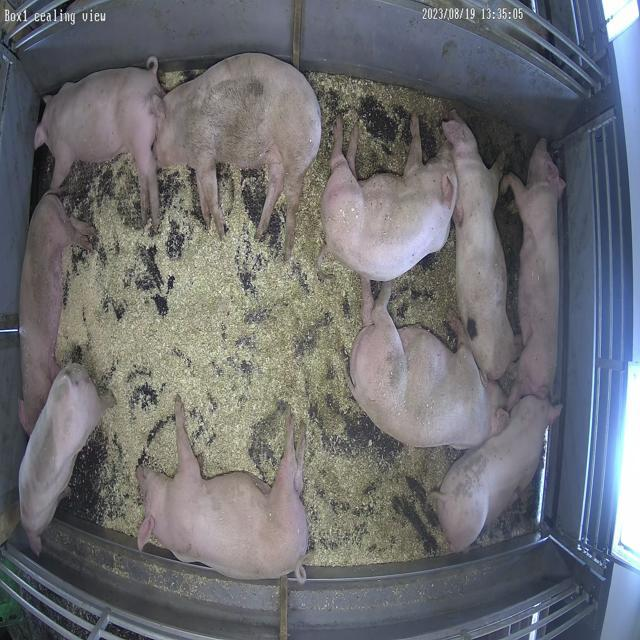Dirt: (462, 111, 540, 180)
Pig: (155, 53, 321, 258), (137, 398, 308, 582), (351, 278, 506, 450), (322, 113, 458, 282), (34, 56, 163, 226), (443, 111, 516, 381), (435, 396, 561, 552), (19, 192, 95, 432), (19, 364, 109, 554), (504, 139, 567, 402)
